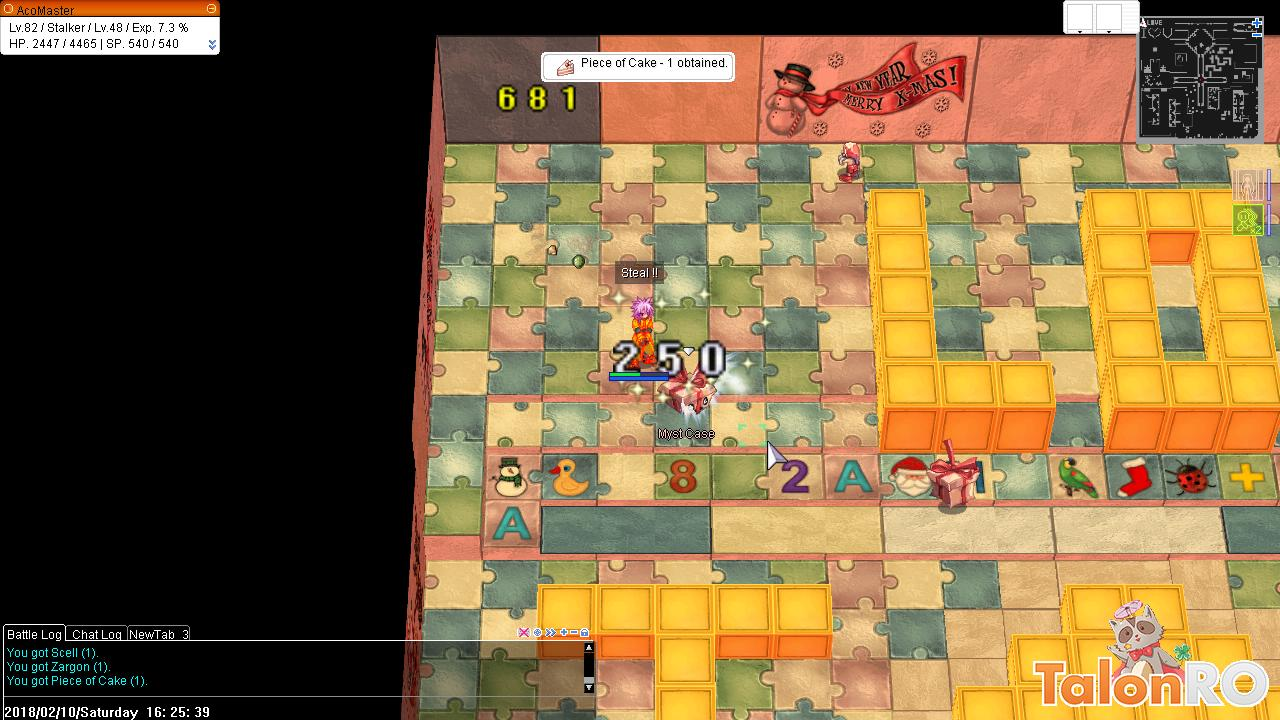myst_case: (923, 433, 979, 516), (657, 365, 717, 423)
